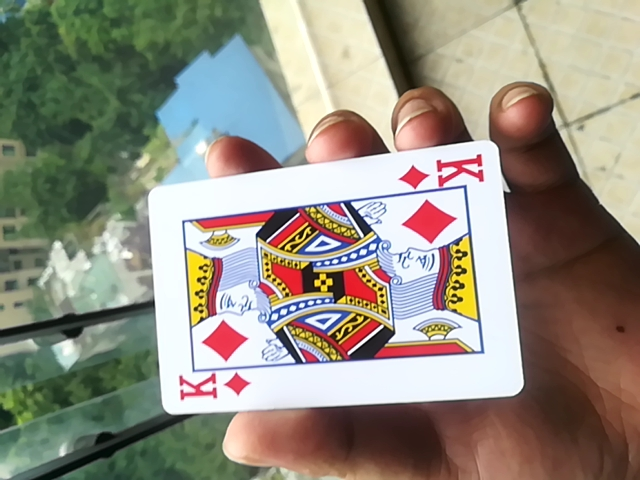fk k: (143, 134, 523, 422)
